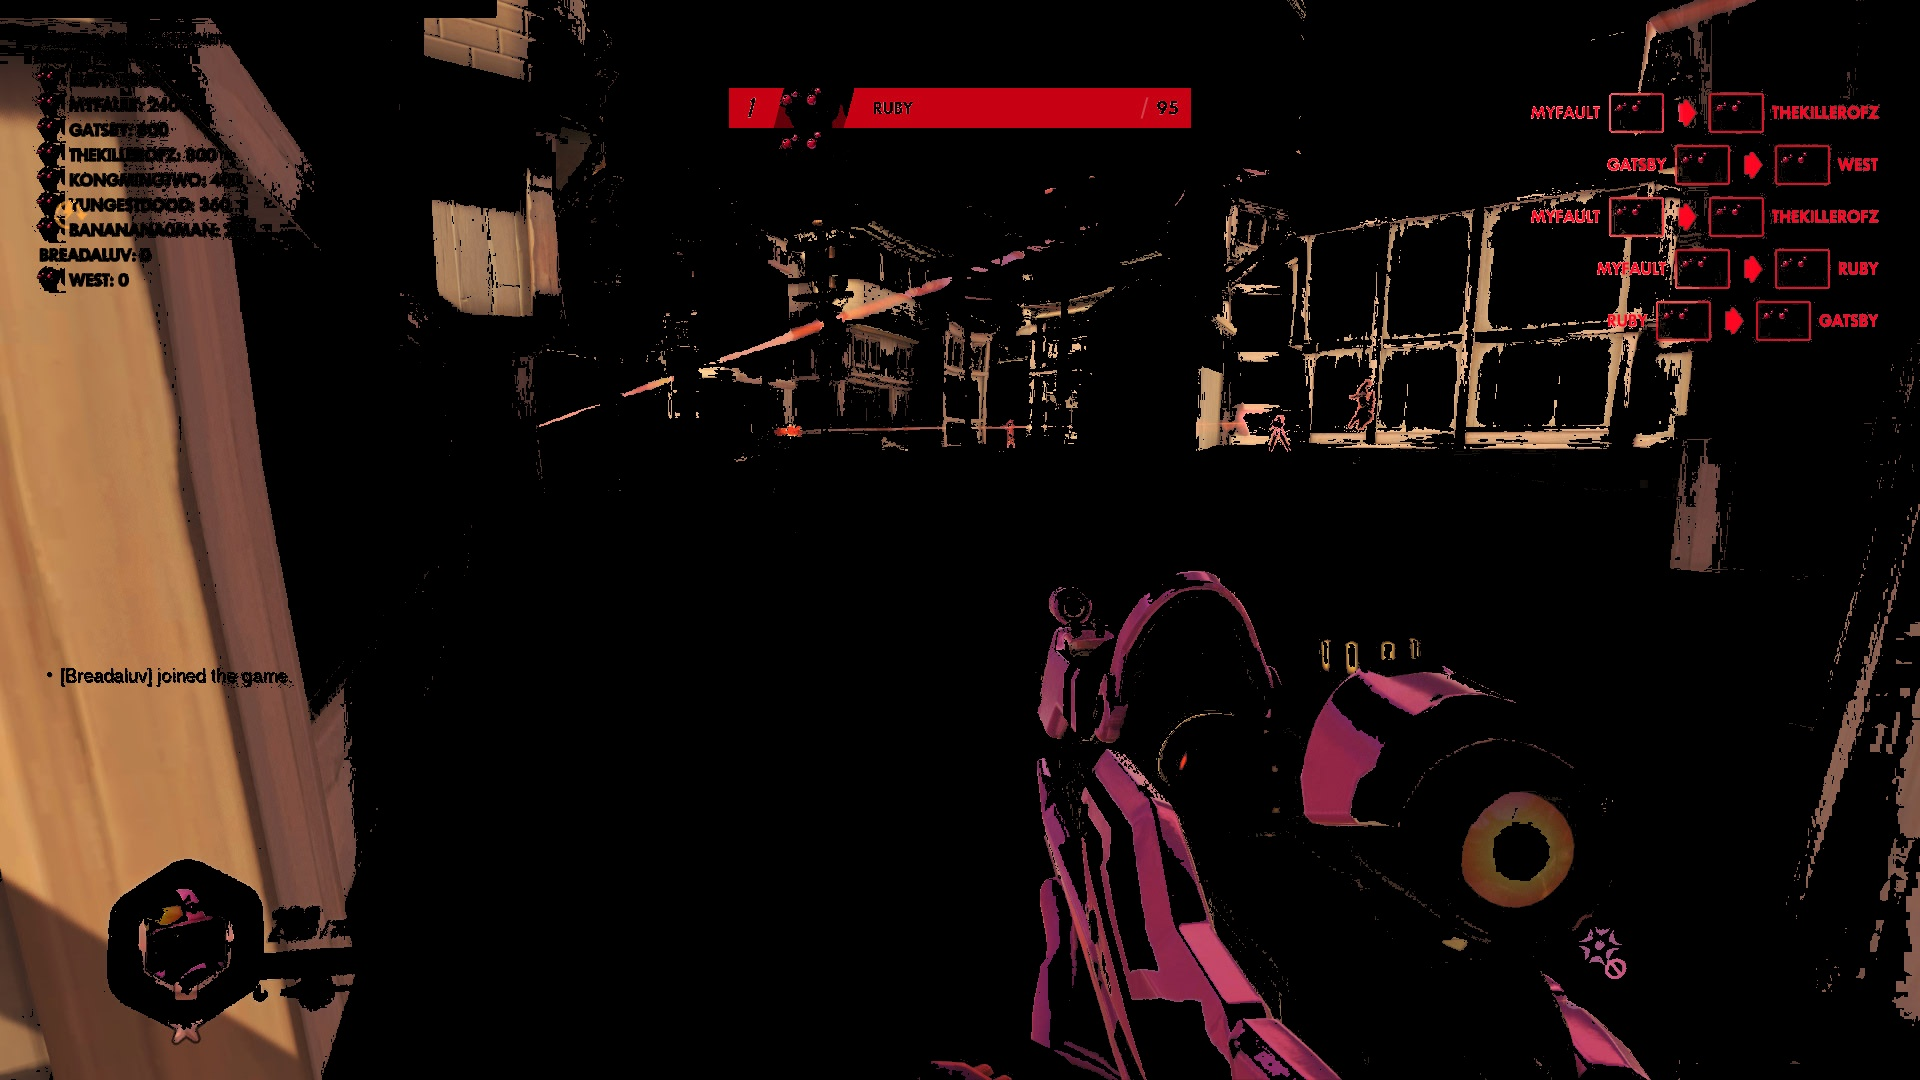widowmaker: (746, 425, 819, 543), (1340, 371, 1389, 438), (1257, 410, 1295, 462), (998, 414, 1023, 451)
